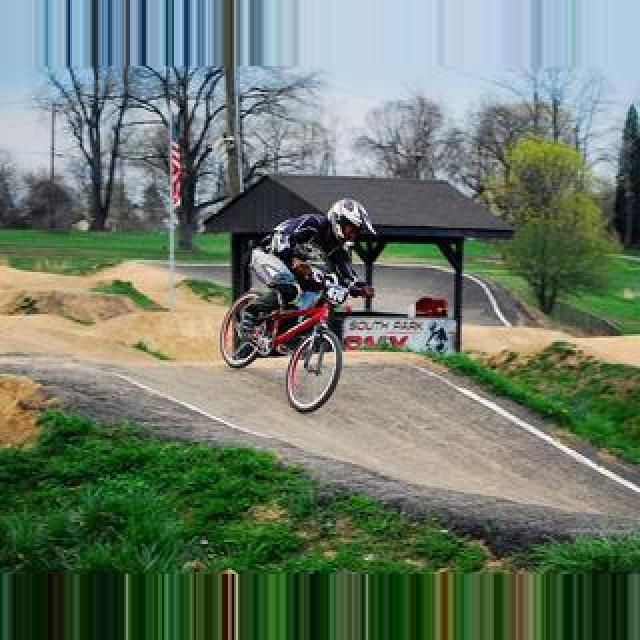MC-Bike: (246, 196, 378, 334)
Person: (218, 272, 374, 414)
